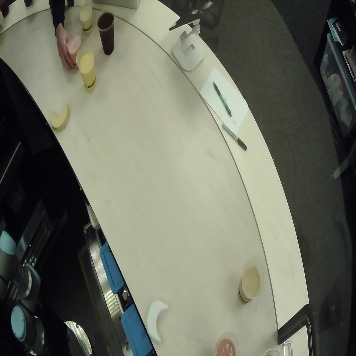full_cup: (237, 255, 267, 304), (76, 46, 98, 93), (63, 23, 84, 70), (95, 11, 115, 55), (213, 331, 241, 356), (76, 1, 95, 37)
puck: (145, 297, 170, 344), (49, 104, 70, 133)
